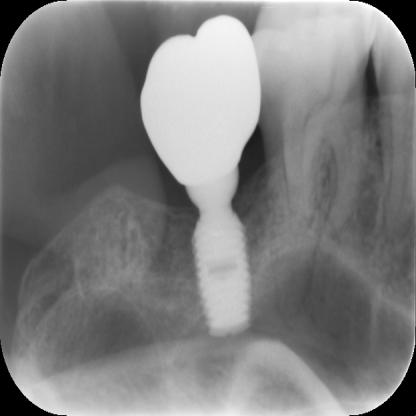Bicon: (184, 213, 255, 337)
